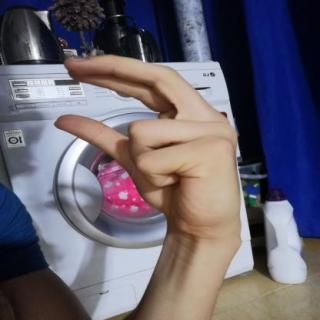DHELL: (44, 46, 250, 234)
